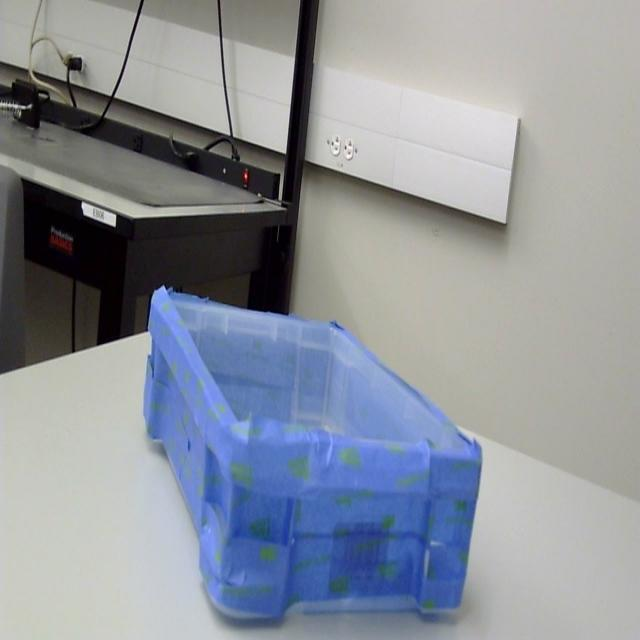bucket: (142, 288, 483, 627)
